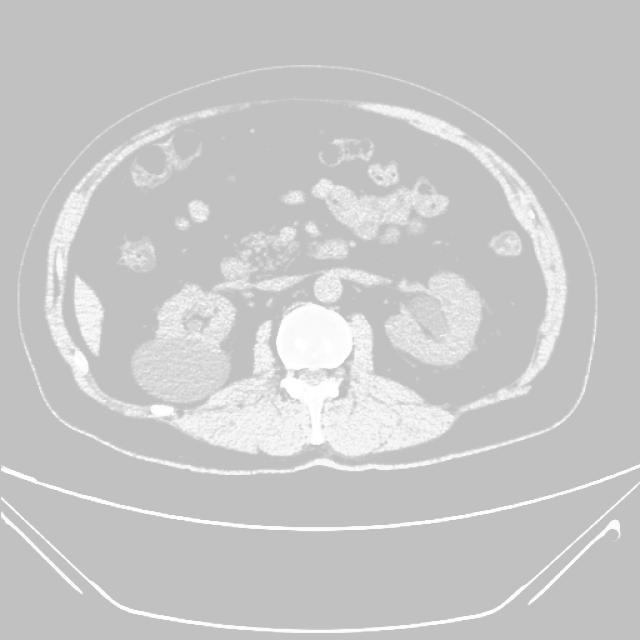cysts: (38, 85, 577, 469)
